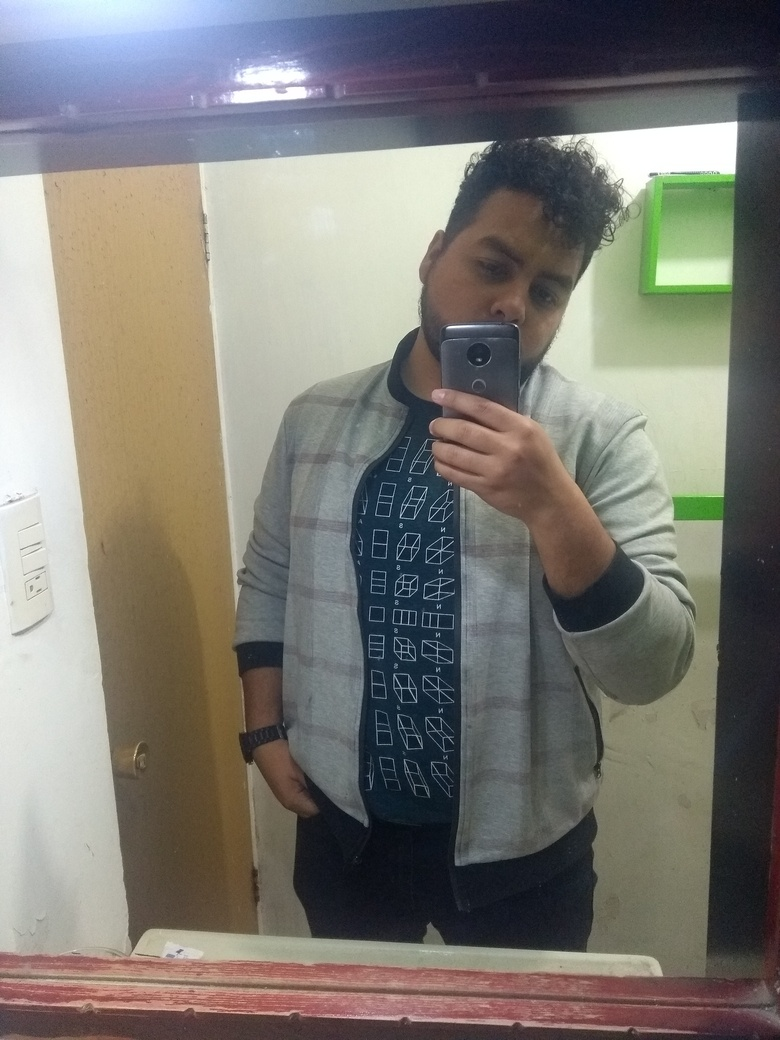Yoshi: (412, 123, 641, 414)
